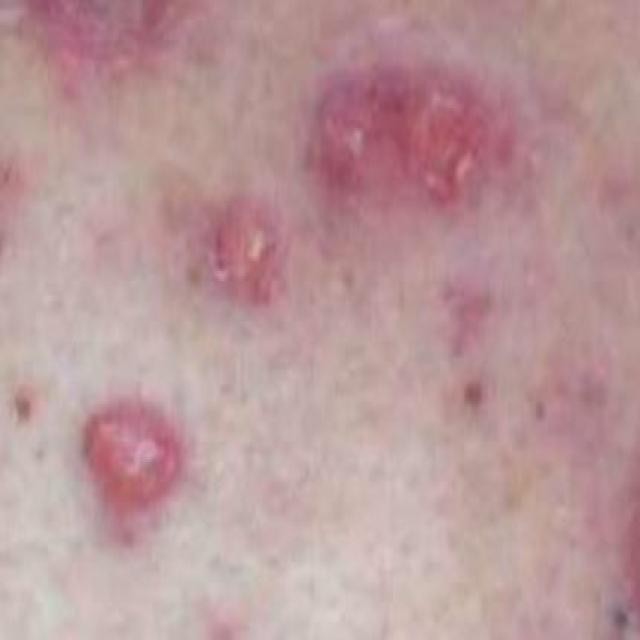nodule: (295, 53, 516, 231), (52, 365, 222, 573)
